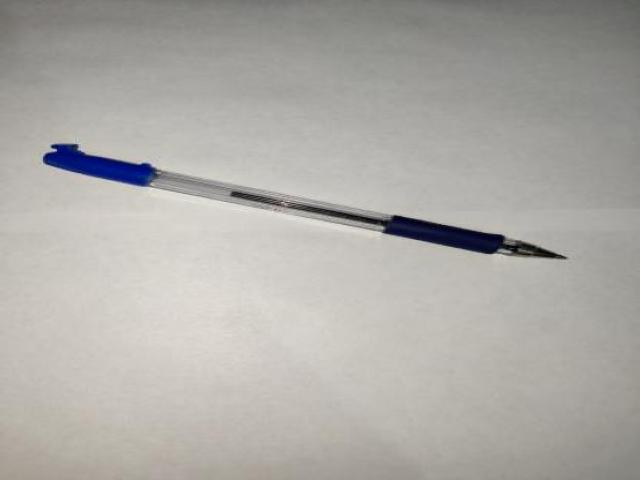PEN: (31, 138, 570, 274)
